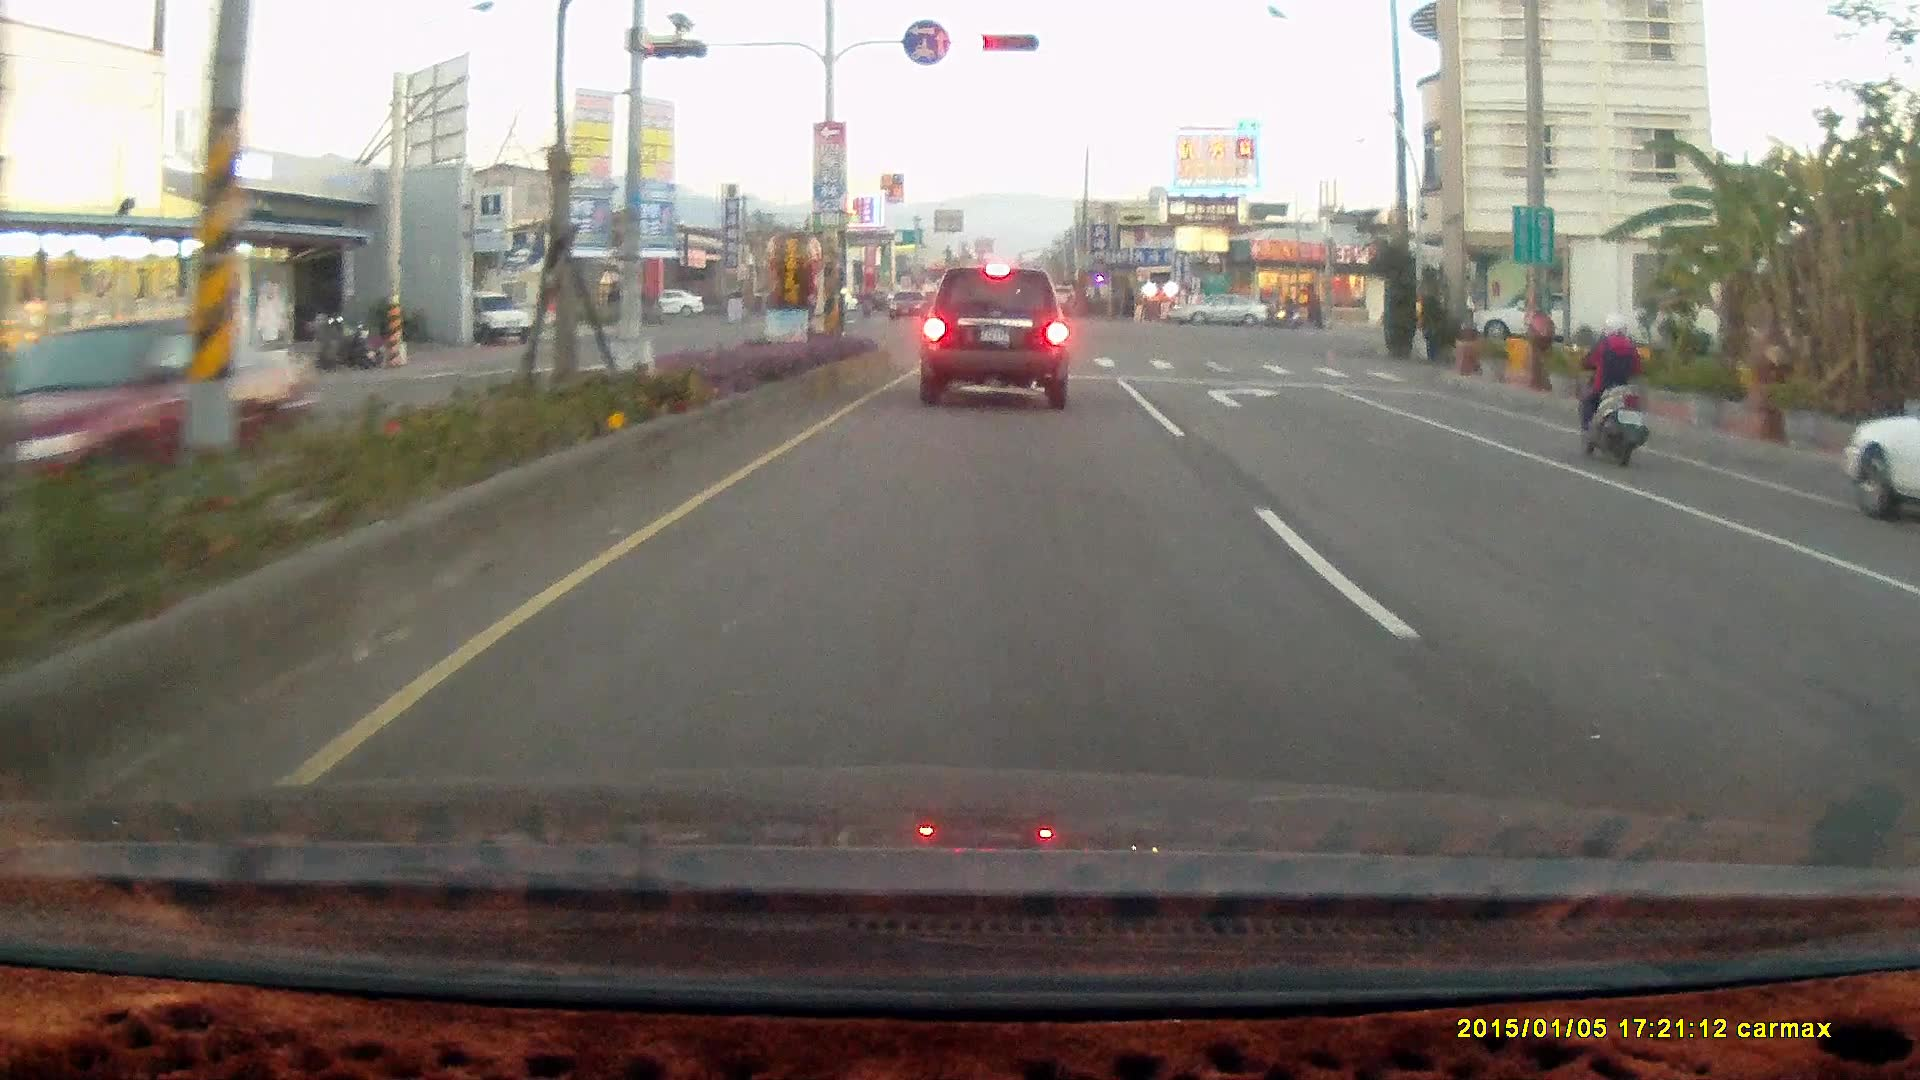rider: (1567, 307, 1649, 464), (1268, 291, 1303, 328)
vehicle: (918, 265, 1068, 410), (1842, 363, 1920, 526), (1842, 398, 1918, 527), (1896, 493, 1920, 836), (1469, 286, 1590, 346), (1883, 528, 1920, 690), (460, 289, 535, 347), (1165, 292, 1272, 330), (1166, 290, 1270, 325)
